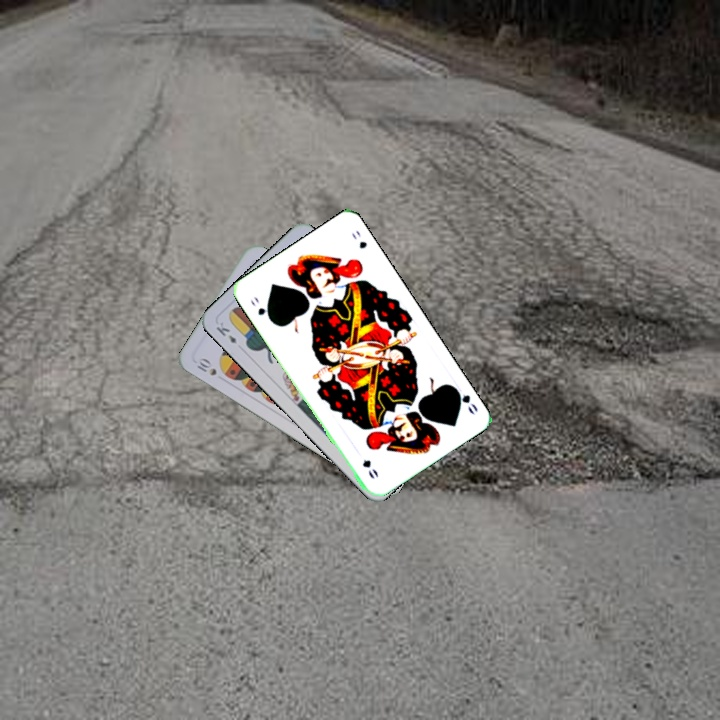EK: (212, 318, 239, 347)
GO: (449, 382, 480, 417), (246, 293, 275, 324)
S10: (193, 354, 219, 379)
